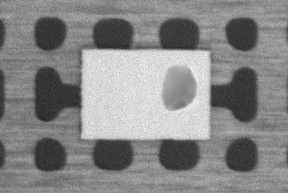DIE_INK: (234, 41, 288, 77)
